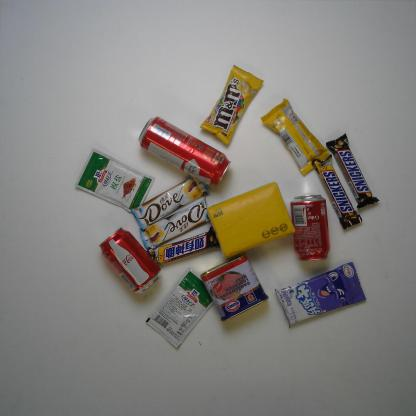Alcohol: (140, 116, 230, 186)
Candy: (274, 260, 367, 328)
Canned Food: (201, 253, 269, 322)
Chocolate: (260, 98, 331, 176), (200, 64, 263, 146), (128, 176, 210, 230), (311, 156, 364, 230), (326, 134, 378, 209), (139, 198, 210, 248), (150, 226, 218, 266)
Drink: (100, 230, 160, 294), (290, 194, 332, 262)
Seasoner: (143, 269, 216, 348), (75, 146, 153, 212)
Tissue: (205, 182, 297, 259)
